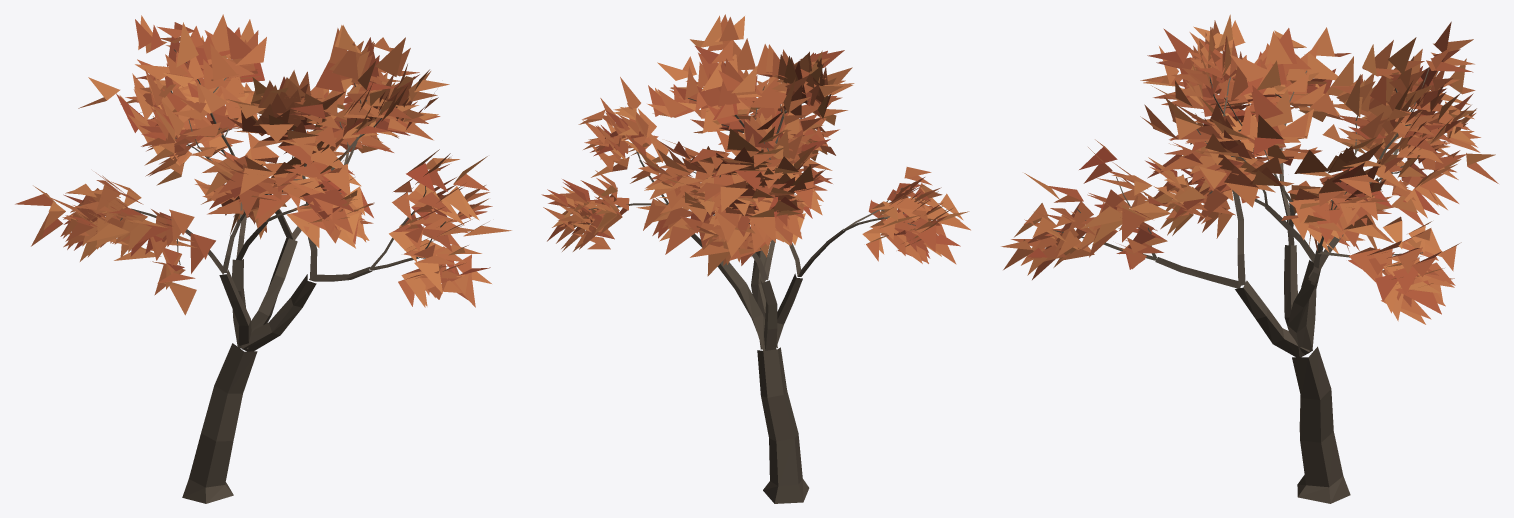
The model's file is hieda_maple_c.glb.
3 views of the same model, side by side, from view 1: azimuth 30°, elevation 25°; view 2: azimuth 150°, elevation 25°; view 3: azimuth 270°, elevation 25° (orthographic). The views are drawn at different scales.
Parts seen in each view (by area): view 1: hieda_maple_c; view 2: hieda_maple_c; view 3: hieda_maple_c.
Part boxes in pixels (<box>): hieda_maple_c: <box>15,14,511,503</box>; hieda_maple_c: <box>541,14,970,503</box>; hieda_maple_c: <box>1001,14,1498,503</box>.
Bounding box in the file's own units: 7.5 × 7.81 × 7.3.
